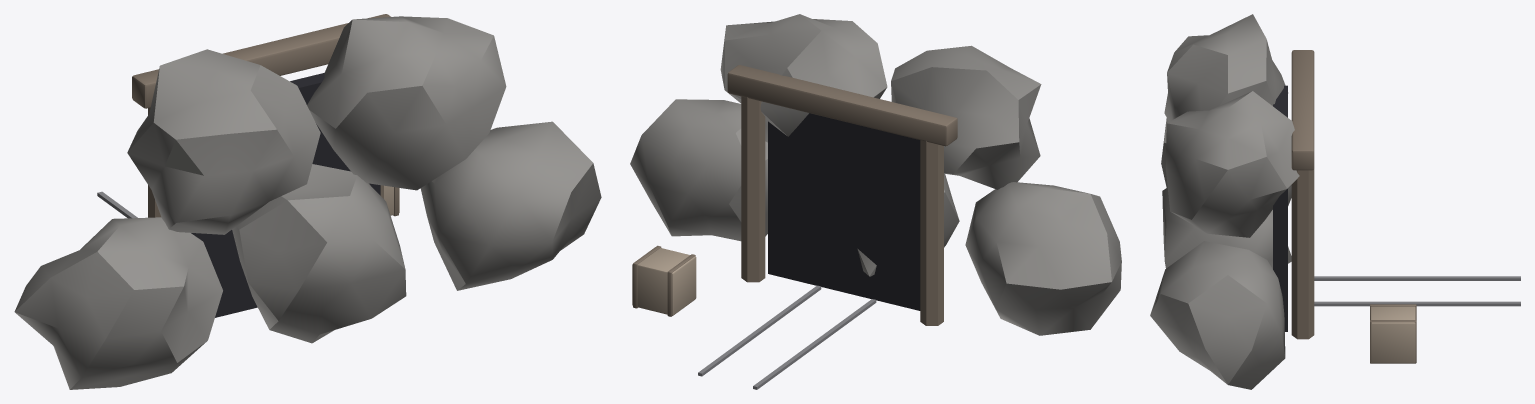
The model's file is mine_entrance.gltf.
The picture shows the model from 3 angles, left to right: view 1: azimuth 30°, elevation 25°; view 2: azimuth 150°, elevation 25°; view 3: azimuth 270°, elevation 25°; orthographic projection. The views are drawn at different scales.
Parts seen in each view (by area): view 1: Body; view 2: Body; view 3: Body.
Boxes of the visible parts, x1,y1,x2,y2 form: Body: [14, 14, 601, 389]; Body: [630, 14, 1121, 389]; Body: [1150, 14, 1520, 389].
Bounding box in the file's own units: 7.01 × 3.58 × 4.94.
